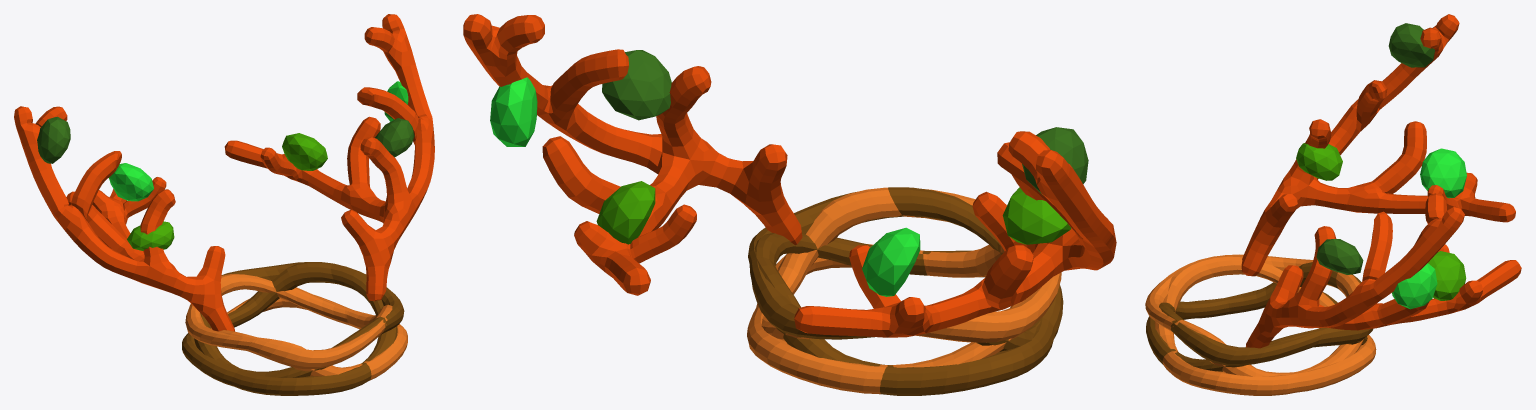
Rendered from FallenKing.fbx.
3 views of the same model, side by side, from view 1: azimuth 30°, elevation 25°; view 2: azimuth 150°, elevation 25°; view 3: azimuth 270°, elevation 25° (orthographic). The views are drawn at different scales.
Parts seen in each view (by area): view 1: Cube.001, Cube, Torus.002, Torus.001, Torus, Torus.003, Icosphere.001, Icosphere.003, Icosphere.005, Icosphere, Icosphere.004; view 2: Cube.001, Cube, Torus, Torus.003, Torus.001, Torus.002, Icosphere, Icosphere.003, Icosphere.002, Icosphere.001, Icosphere.004, Icosphere.005; view 3: Cube.001, Cube, Torus.001, Torus.003, Torus, Torus.002, Icosphere.003, Icosphere.005, Icosphere.002, Icosphere.001, Icosphere.004, Icosphere.
Part boxes in pixels (x1,y1,x2,y2): Cube.001: (224, 14, 434, 301); Cube: (14, 106, 234, 331); Torus.002: (194, 262, 397, 395); Torus.001: (185, 274, 407, 380); Torus: (182, 262, 404, 386); Torus.003: (211, 295, 392, 368); Icosphere.001: (282, 133, 327, 170); Icosphere.003: (109, 163, 153, 201); Icosphere.005: (37, 116, 70, 163); Icosphere: (375, 118, 414, 157); Icosphere.004: (127, 221, 174, 250); Cube.001: (463, 14, 802, 295); Cube: (794, 131, 1116, 337); Torus: (748, 187, 1055, 395); Torus.003: (747, 187, 1024, 394); Torus.001: (756, 244, 1061, 342); Torus.002: (749, 233, 1063, 351); Icosphere: (602, 50, 671, 120); Icosphere.003: (862, 227, 920, 296); Icosphere.002: (490, 77, 537, 146); Icosphere.001: (596, 181, 655, 244); Icosphere.004: (1002, 187, 1071, 244); Icosphere.005: (1022, 127, 1088, 194); Cube.001: (1246, 193, 1521, 348); Cube: (1241, 14, 1515, 276); Torus.001: (1154, 254, 1363, 395); Torus.003: (1145, 255, 1376, 392); Torus: (1159, 289, 1367, 365); Torus.002: (1146, 262, 1373, 371); Icosphere.003: (1420, 148, 1466, 198); Icosphere.005: (1388, 23, 1434, 67); Icosphere.002: (1392, 263, 1437, 309); Icosphere.001: (1428, 251, 1466, 300); Icosphere.004: (1296, 143, 1342, 180); Icosphere: (1316, 239, 1363, 274).
Size of the model in its own units: 479 by 269 by 378.
